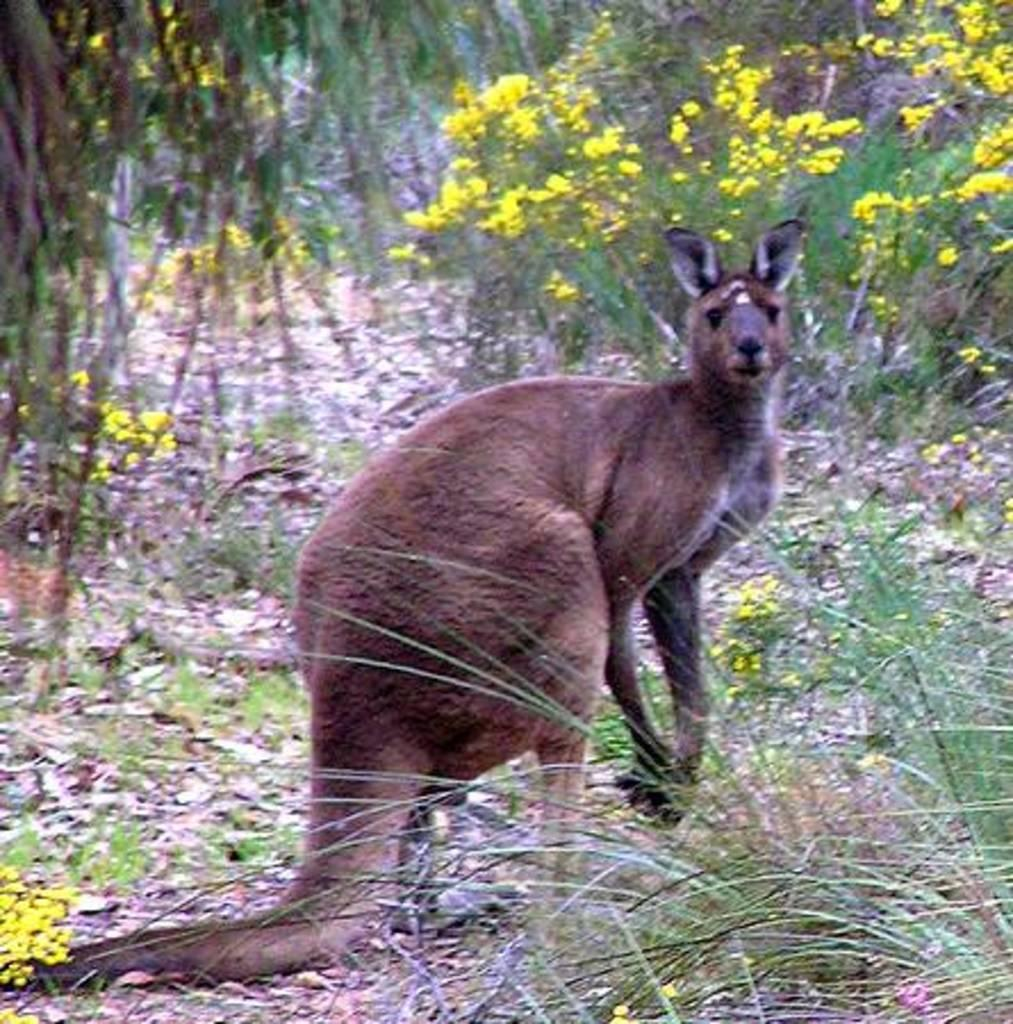kangaroo: (0, 220, 810, 1002)
